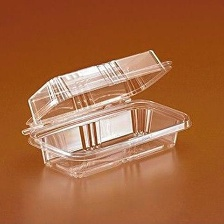plastic_box: (15, 42, 199, 184)
